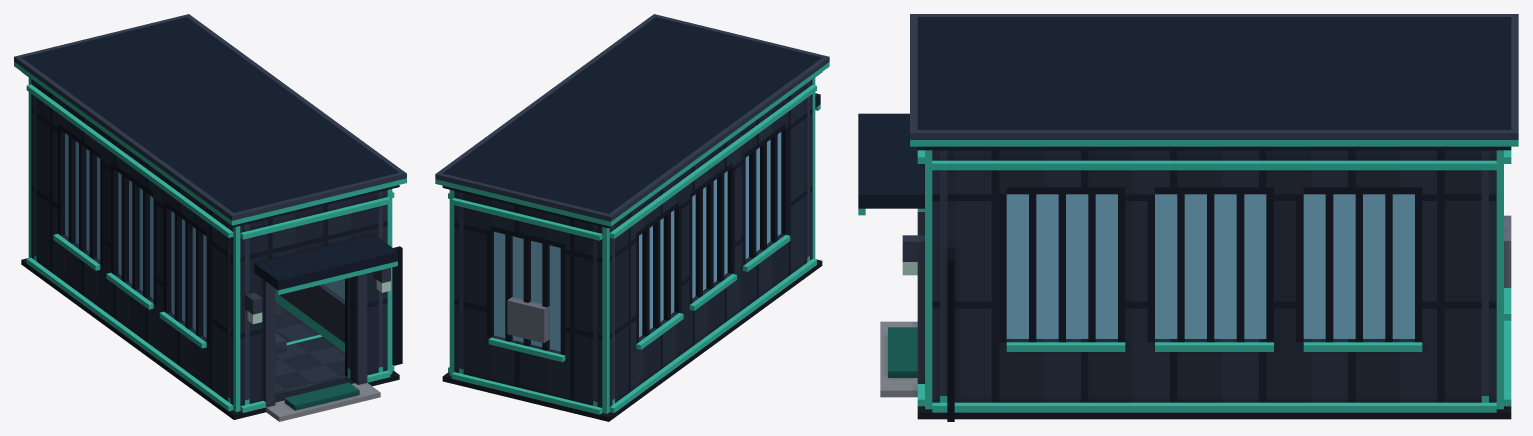
File: training_e4_l3.glb
The picture shows the model from 3 angles, left to right: view 1: azimuth 30°, elevation 25°; view 2: azimuth 150°, elevation 25°; view 3: azimuth 270°, elevation 25°; orthographic projection. The views are drawn at different scales.
Visible parts, largest first — view 1: CutRoof, CutNX, Base, CutPZ, CutNZ, CutPX; view 2: CutRoof, CutNX, CutNZ, Base, CutPZ; view 3: CutPX, CutRoof, Base, CutPZ, CutNZ.
Part boxes in pixels (x1,y1,x2,y2): CutRoof: (14,14,406,227); CutNX: (26,83,233,362); Base: (21,217,402,421); CutPZ: (228,189,402,368); CutNZ: (28,77,36,222); CutPX: (314,191,394,309); CutRoof: (435,14,829,228); CutNX: (609,83,816,364); CutNZ: (449,189,614,370); Base: (442,218,822,421); CutPZ: (807,78,820,223); CutPX: (932,150,1496,351); CutRoof: (910,14,1518,150); Base: (880,215,1511,421); CutPZ: (858,113,954,361); CutNZ: (1481,150,1511,348).
Size of the model in its own units: 4 by 4.3 by 8.9.
